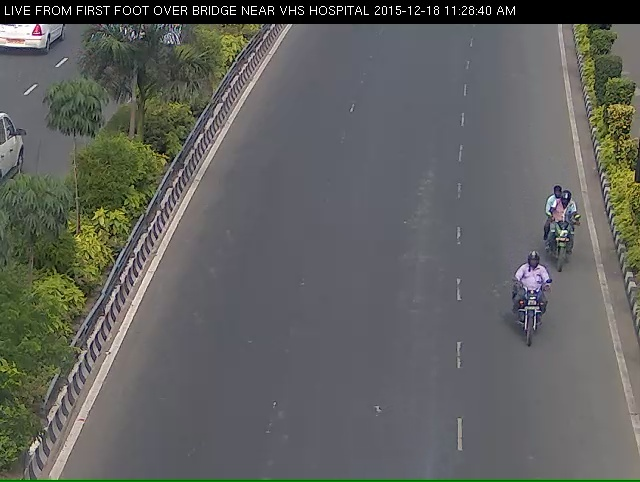Person: (507, 266, 562, 376), (545, 191, 591, 281)
